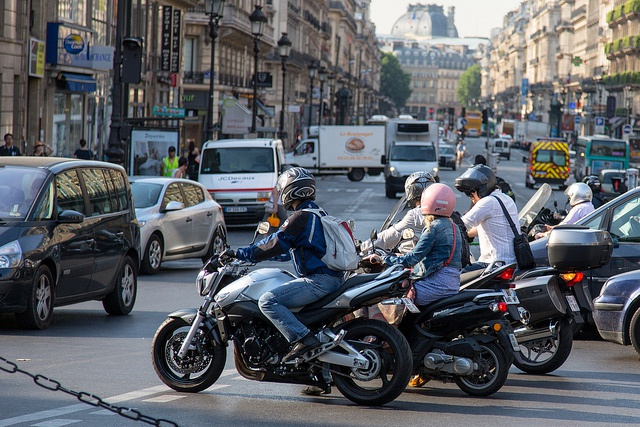non-vehicle: (142, 215, 423, 403), (418, 289, 520, 397), (504, 268, 588, 374), (517, 182, 553, 243)
